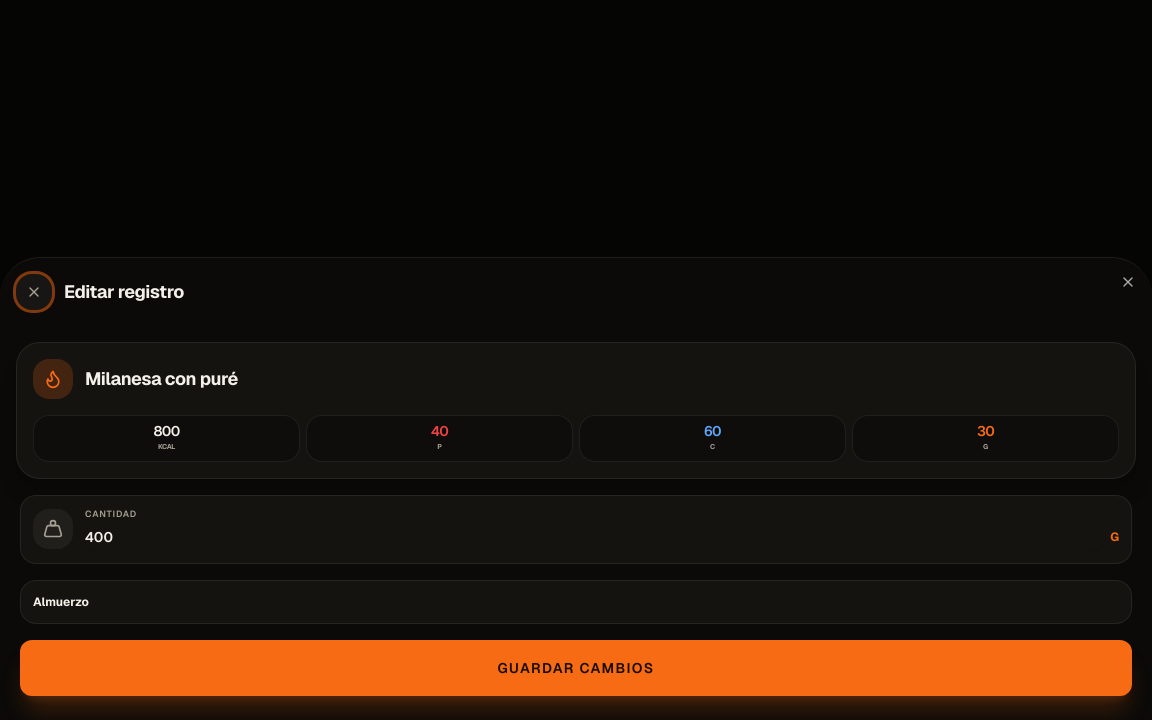
EditEntrySheet › previews the scaled macros before saving
Expected: the text "800" is shown, [153,424,180,438]
Replace the text in the number field named "Cantidad" with "200": (594, 537) [85,523,1102,551]
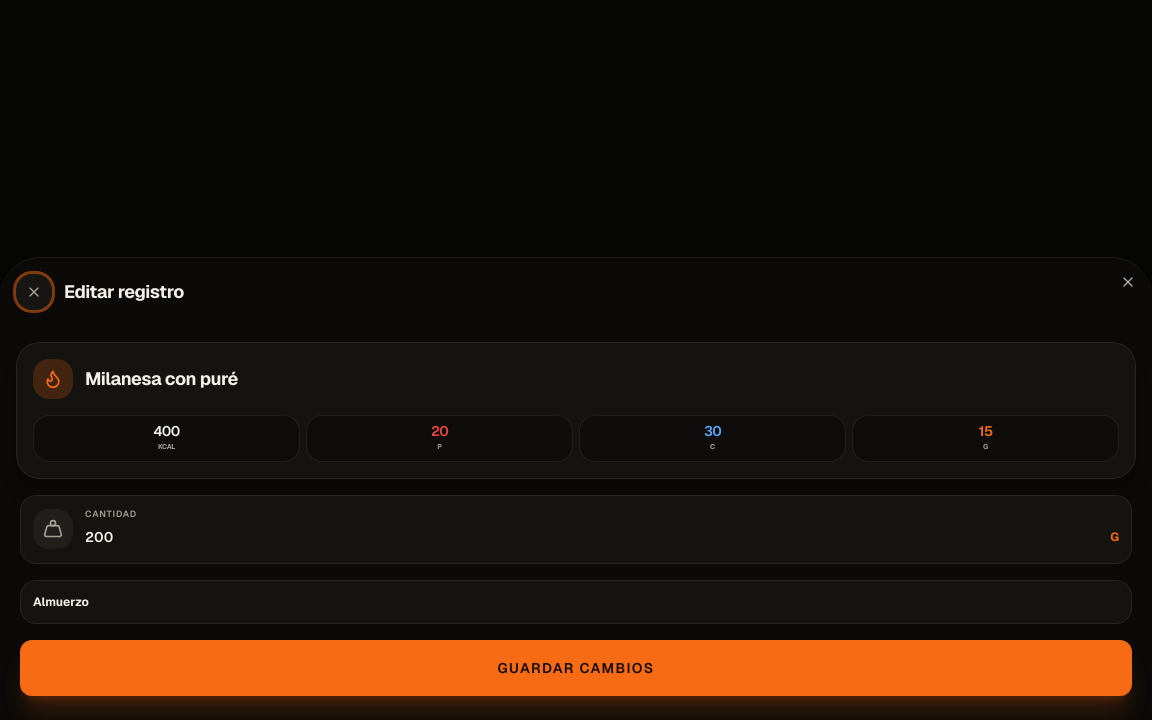
Now the text "400" is shown, box [154,424,180,438]
